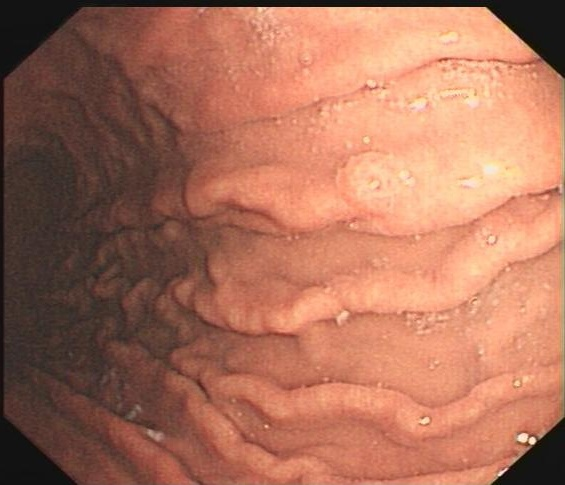Polyp: (320, 140, 423, 219)
